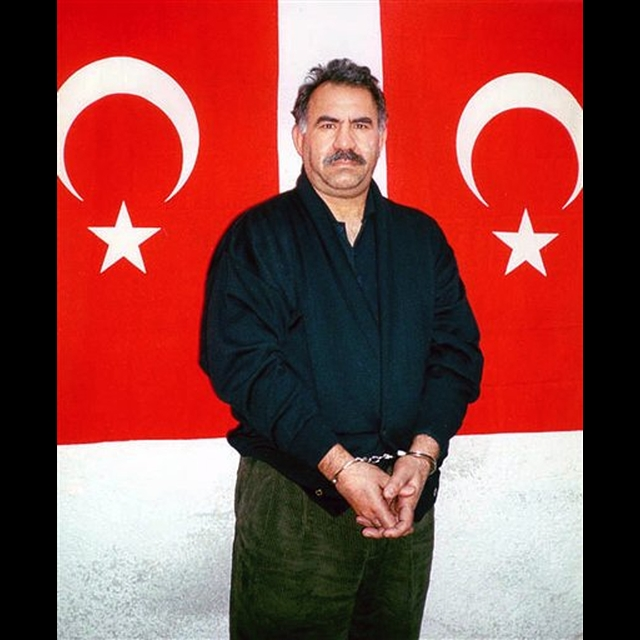APO: (270, 65, 402, 227)
